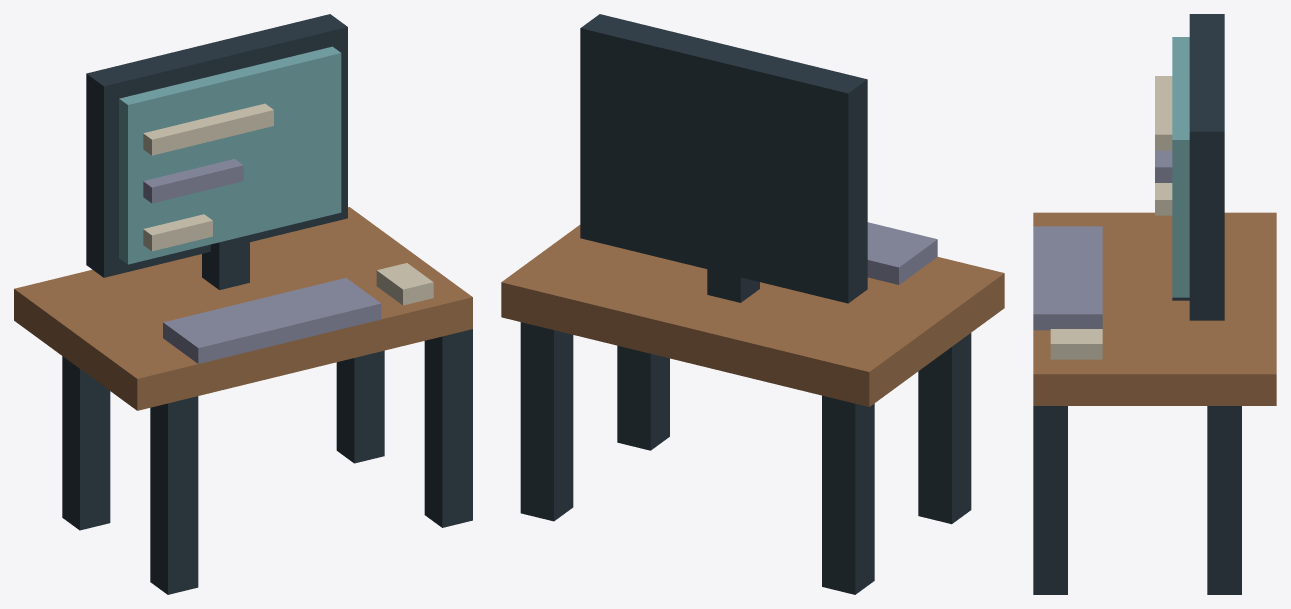
File: mathematics-09.glb
3 views of the same model, side by side, from view 1: azimuth 30°, elevation 25°; view 2: azimuth 150°, elevation 25°; view 3: azimuth 270°, elevation 25° (orthographic). The views are drawn at different scales.
Visible parts, largest first — view 1: Data terminal; view 2: Data terminal; view 3: Data terminal.
Part boxes in pixels (<box>): Data terminal: <box>14,14,472,594</box>; Data terminal: <box>501,14,1004,594</box>; Data terminal: <box>1033,14,1276,594</box>.
Size of the model in its own units: 1.76 by 2.24 by 1.12.
